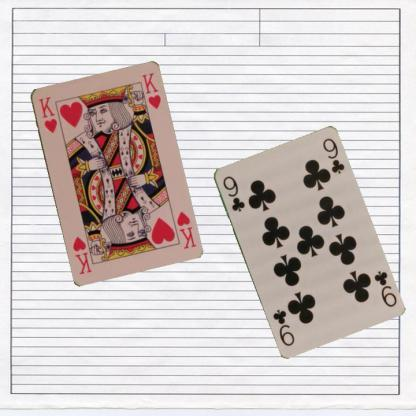9c: (371, 267, 397, 308), (220, 173, 246, 213)
Kh: (174, 209, 197, 250), (36, 94, 58, 134)
